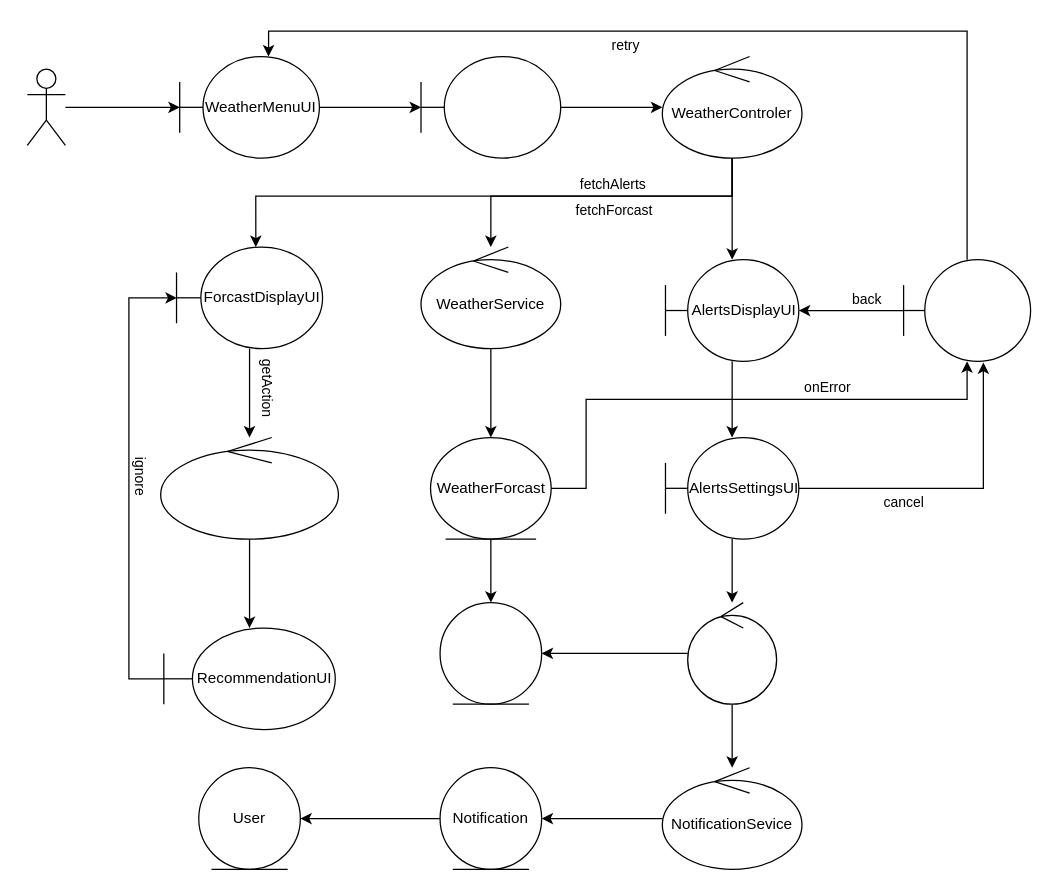
The diagram is 1053 pixels wide and 892 high, and some of its shapes have lost their labels. Each missing label, with the centre of its shape:
AlertService: the point at 731,652
ErrorPopupUI: the point at 966,309
Farmer: the point at 45,106
FieldSelectorUI: the point at 490,106
RecommendationService: the point at 248,487
WeatherAlert: the point at 490,652
